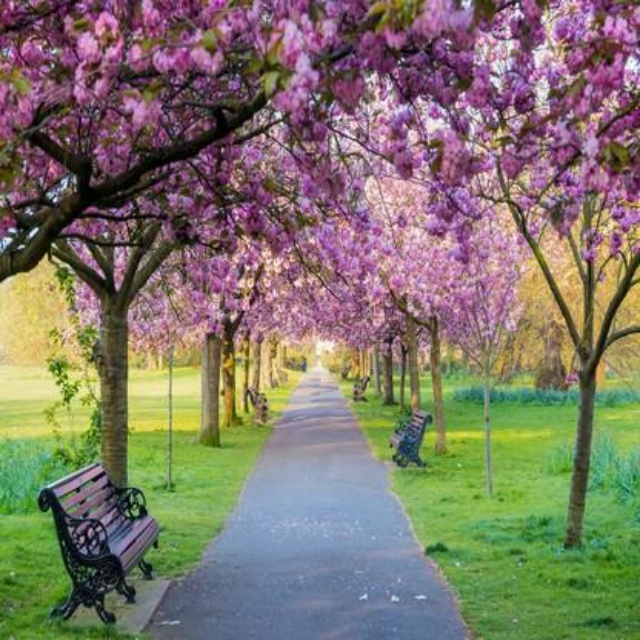obstacle: (40, 445, 158, 615), (383, 402, 448, 477), (237, 380, 288, 428)
